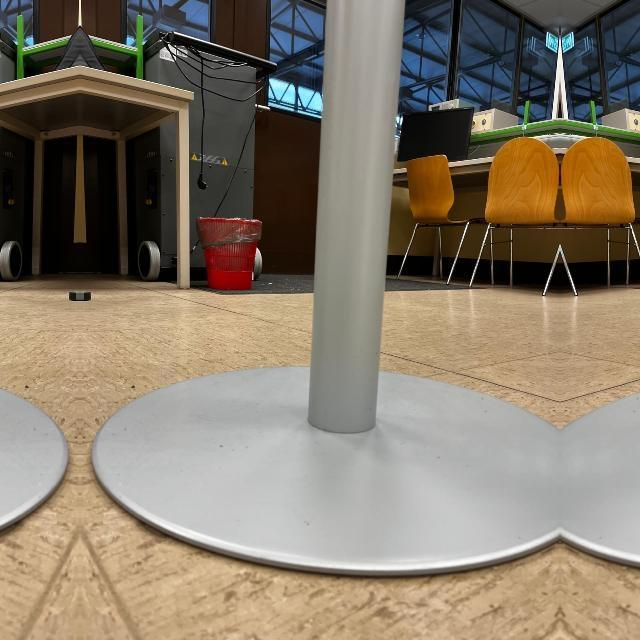obstacle: (91, 173, 559, 582), (561, 173, 640, 582), (0, 173, 69, 582), (196, 216, 264, 290)
